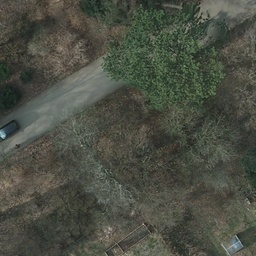car: (1, 119, 19, 136)
